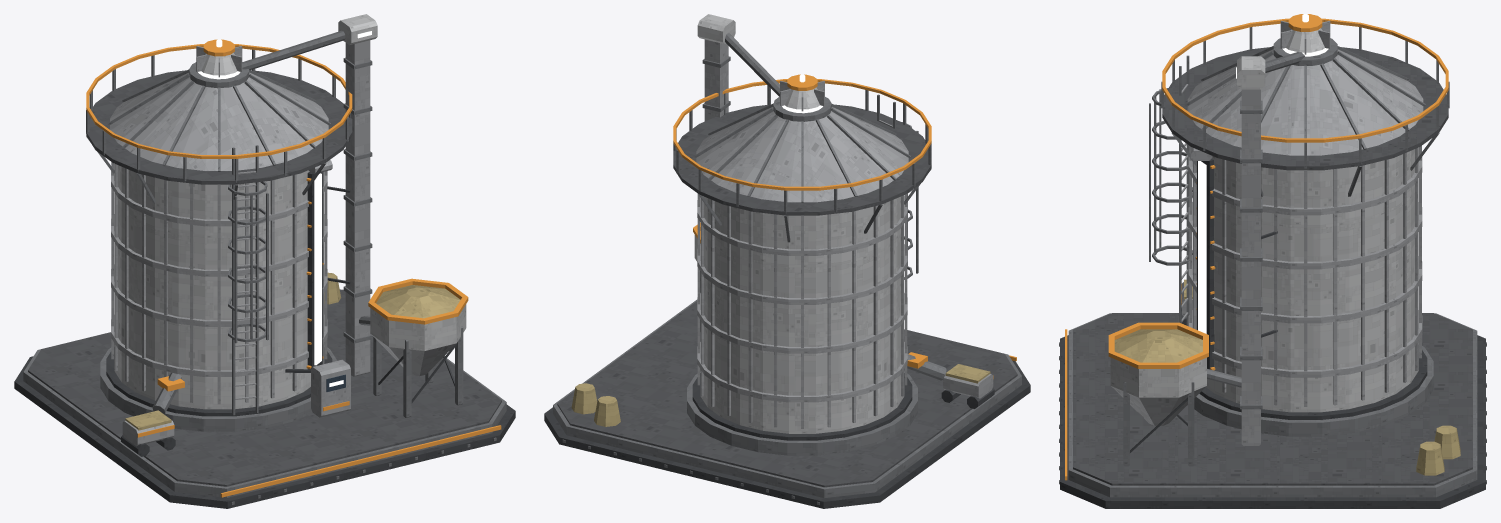
Rendered from silo_lod0.glb.
3 renders of one model, left to right at view 1: azimuth 30°, elevation 25°; view 2: azimuth 150°, elevation 25°; view 3: azimuth 270°, elevation 25°, orthographic. The views are drawn at different scales.
Parts seen in each view (by area): view 1: silo_base_body, silo_base_trim, silo_gauge_glow, silo_vent_body; view 2: silo_base_body, silo_base_trim, silo_vent_body; view 3: silo_base_body, silo_base_trim, silo_gauge_glow, silo_vent_body, silo_vent_trim.
Boxes of the visible parts, box(x1,y1,x2,y2) form: silo_base_body: box(14, 14, 515, 508); silo_base_trim: box(86, 44, 501, 497); silo_gauge_glow: box(314, 173, 321, 365); silo_vent_body: box(196, 46, 242, 77); silo_base_body: box(544, 14, 1030, 508); silo_base_trim: box(673, 79, 1016, 378); silo_vent_body: box(780, 81, 824, 111); silo_base_body: box(1059, 27, 1486, 508); silo_base_trim: box(1065, 18, 1448, 480); silo_gauge_glow: box(1198, 161, 1206, 333); silo_vent_body: box(1280, 20, 1330, 54); silo_vent_trim: box(1288, 14, 1322, 31).
Size of the model in its own units: 3.96 by 4.05 by 3.94.
3 materials, 1 textured.
